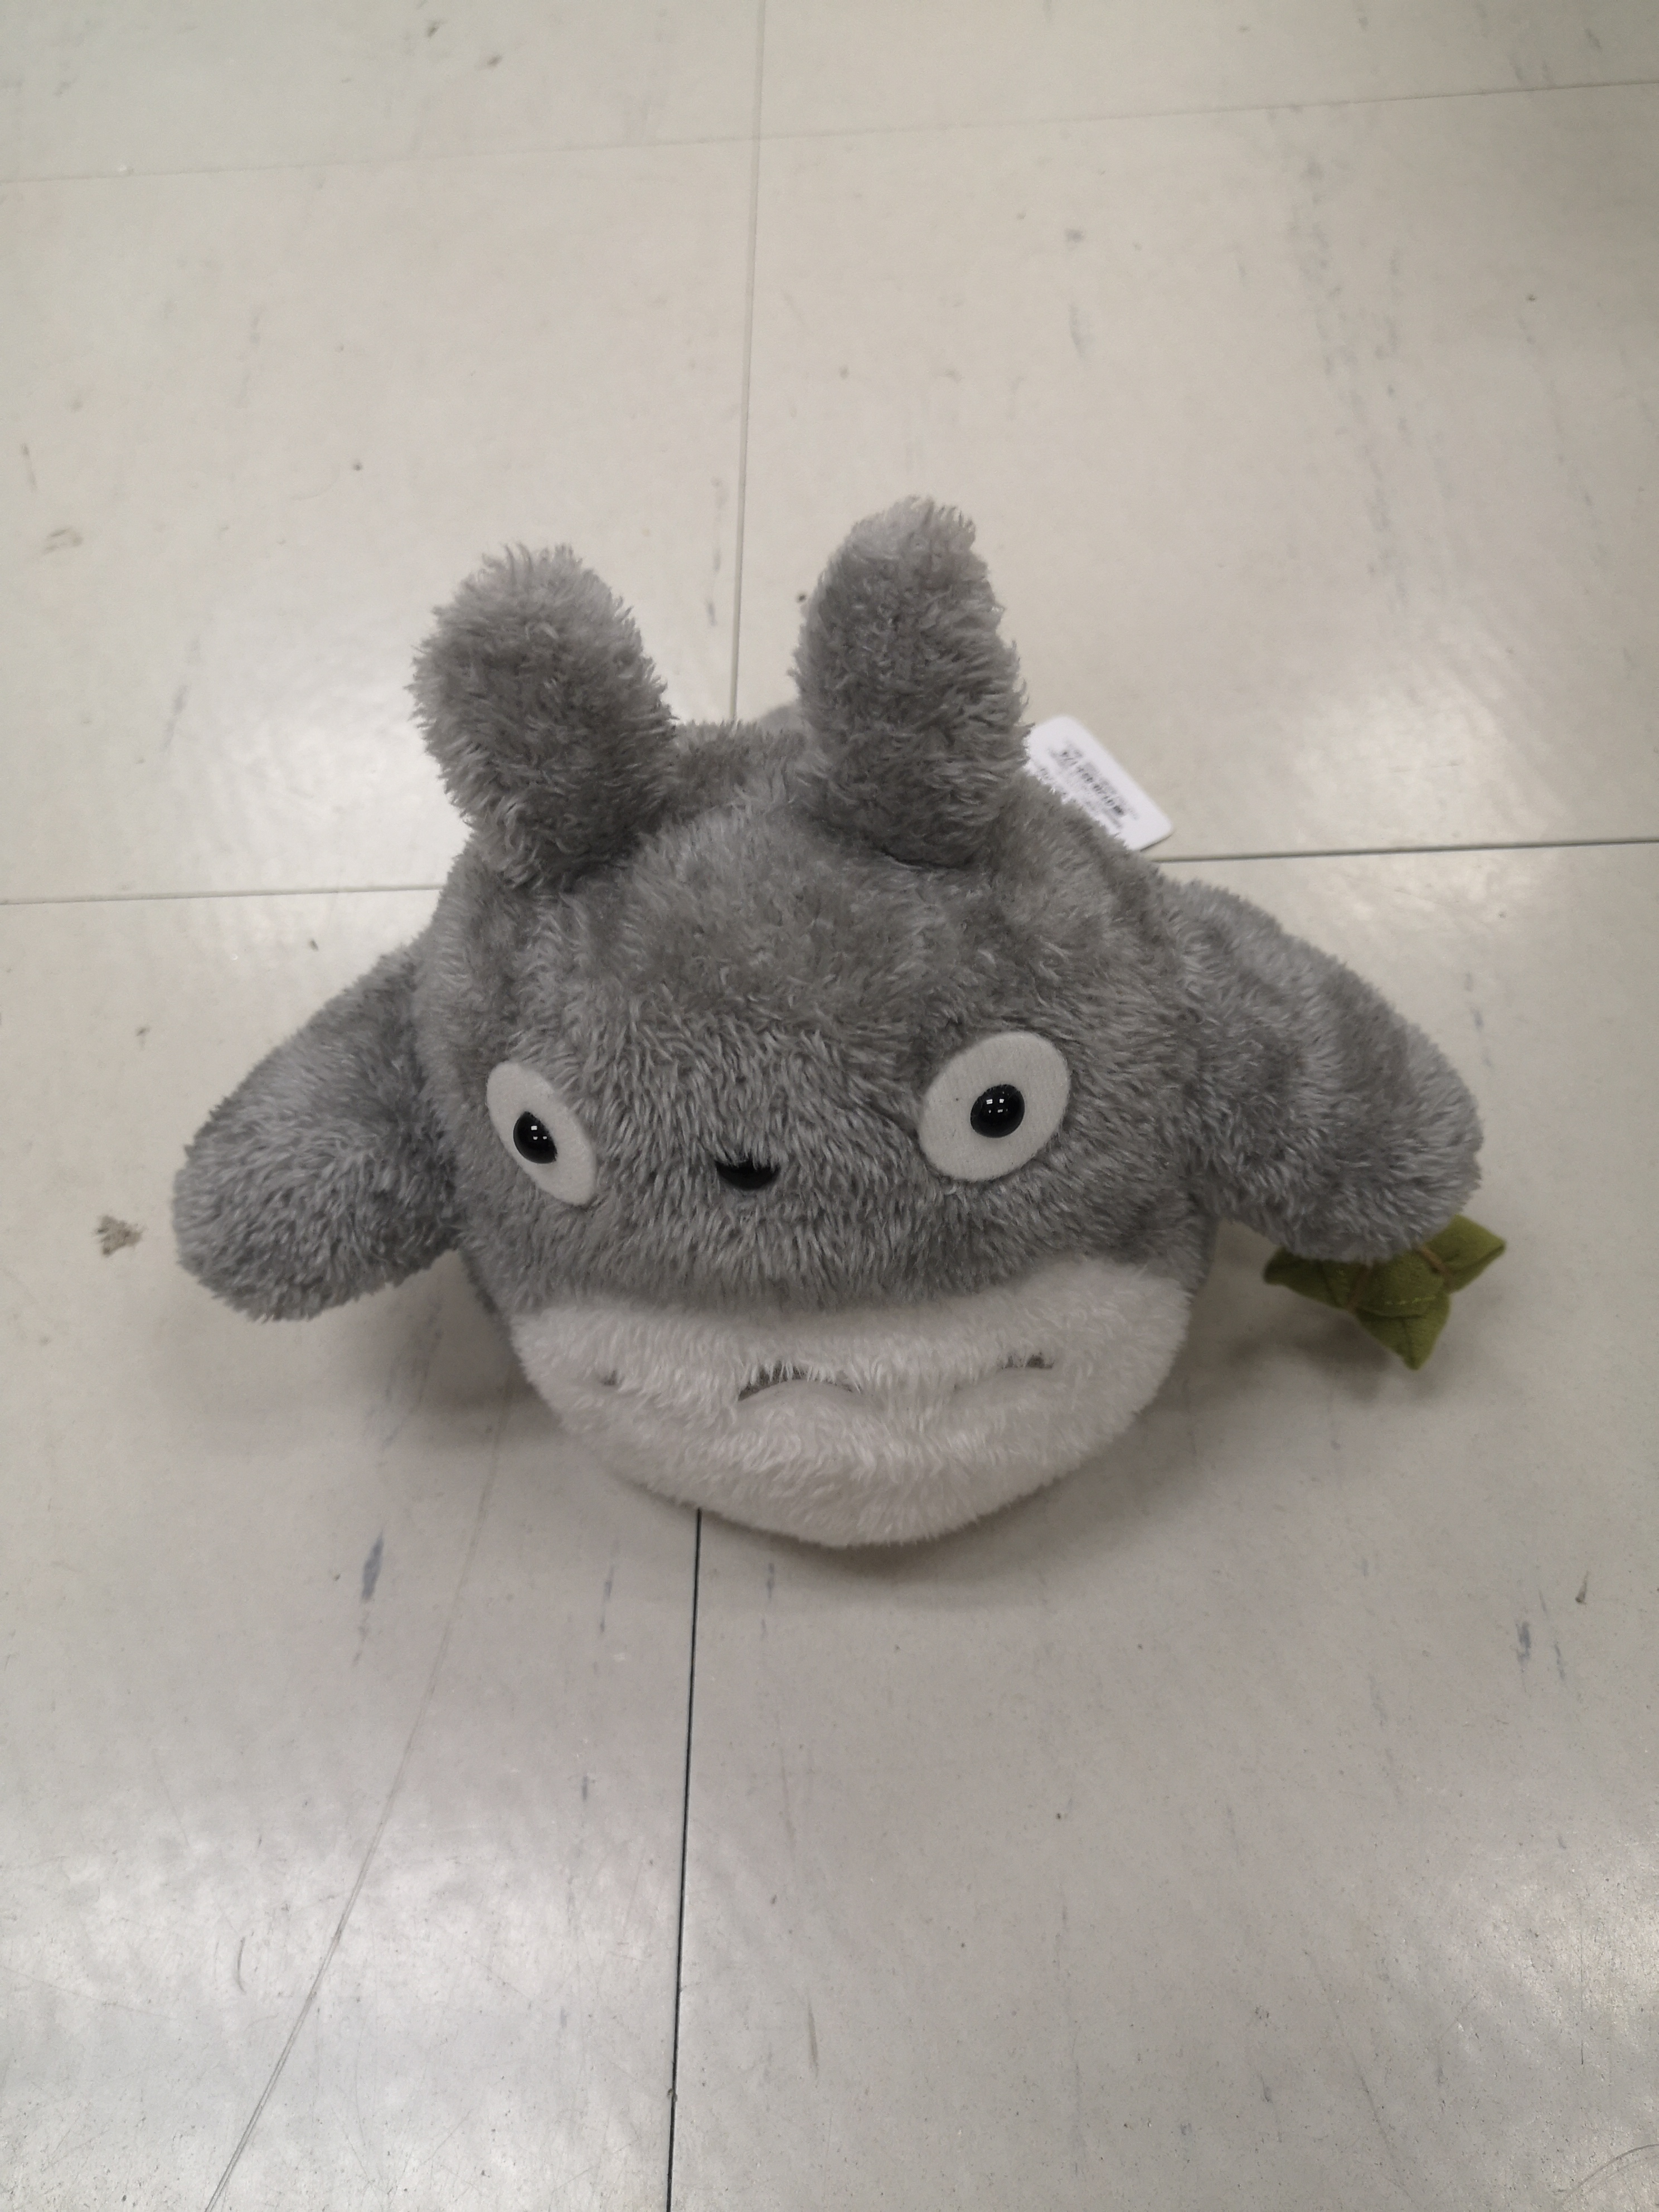totoro: (159, 489, 1513, 1562)
